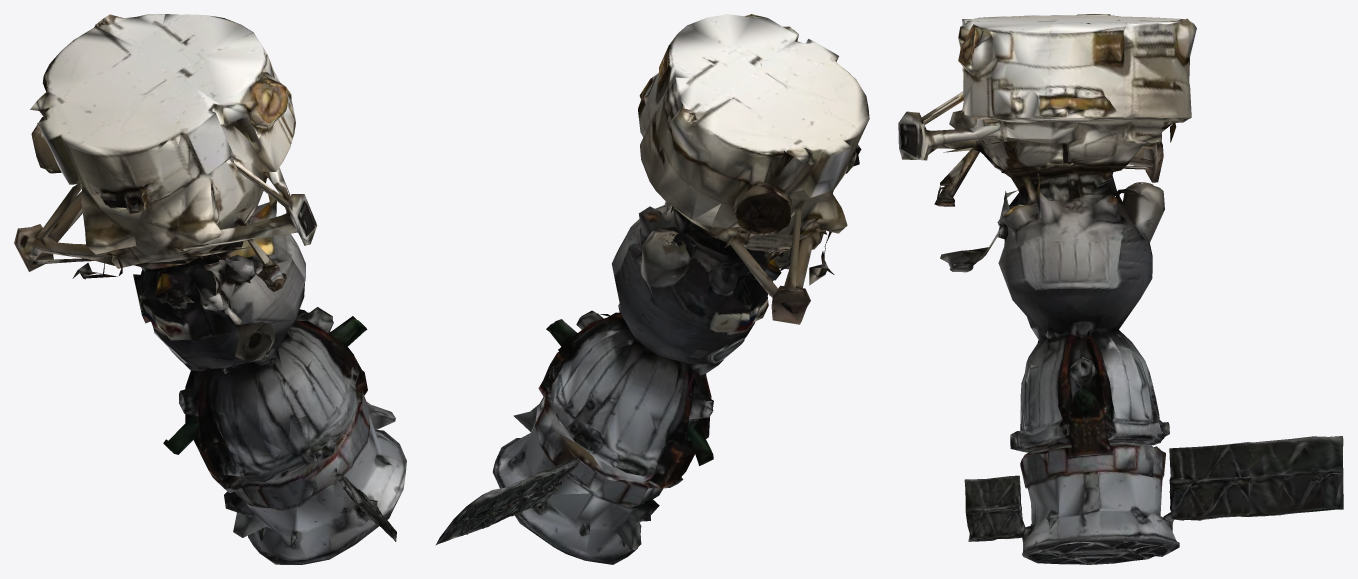
The model's file is transport-14.glb.
3 renders of one model, left to right at view 1: azimuth 30°, elevation 25°; view 2: azimuth 150°, elevation 25°; view 3: azimuth 270°, elevation 25°, orthographic. The views are drawn at different scales.
Size of the model in its own units: 1.09 by 1.63 by 1.28.
Materials: 1 (1 with a texture image).
